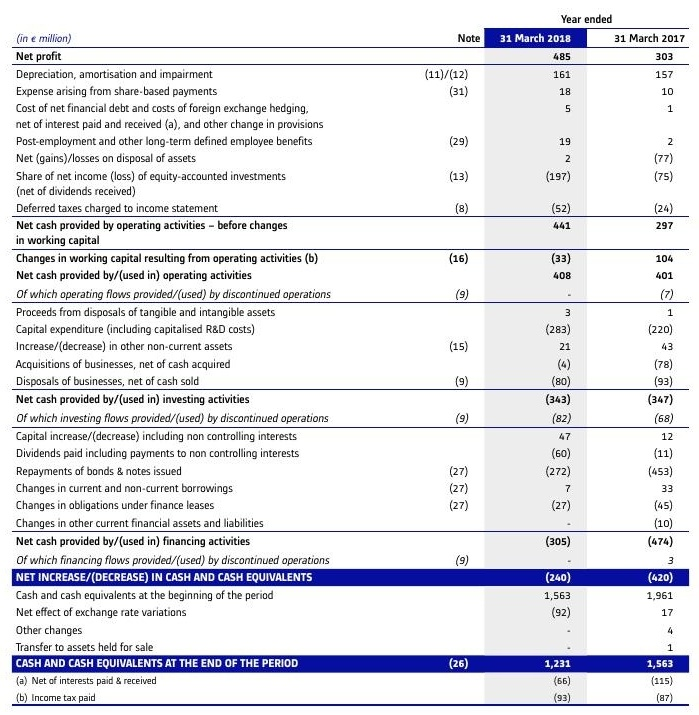table: (0, 0, 699, 715)
